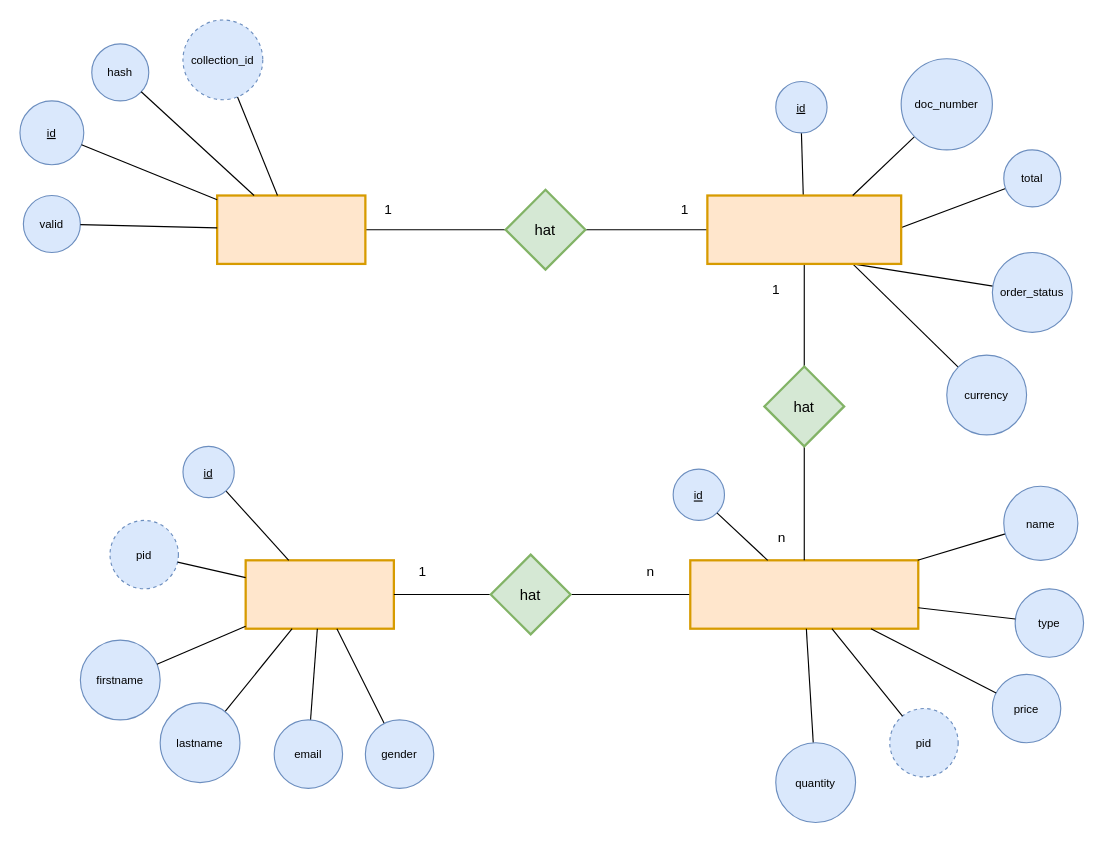
Image size: 1104x842. Some labels were removed from this diagram. Each missing label, with the box of its shape:
tl_iso_address: (244, 559, 394, 629)
tl_iso_order_hashes: (215, 194, 366, 264)
tl_iso_product_collection: (706, 194, 902, 264)
tl_iso_product_collection_item: (689, 559, 919, 629)
